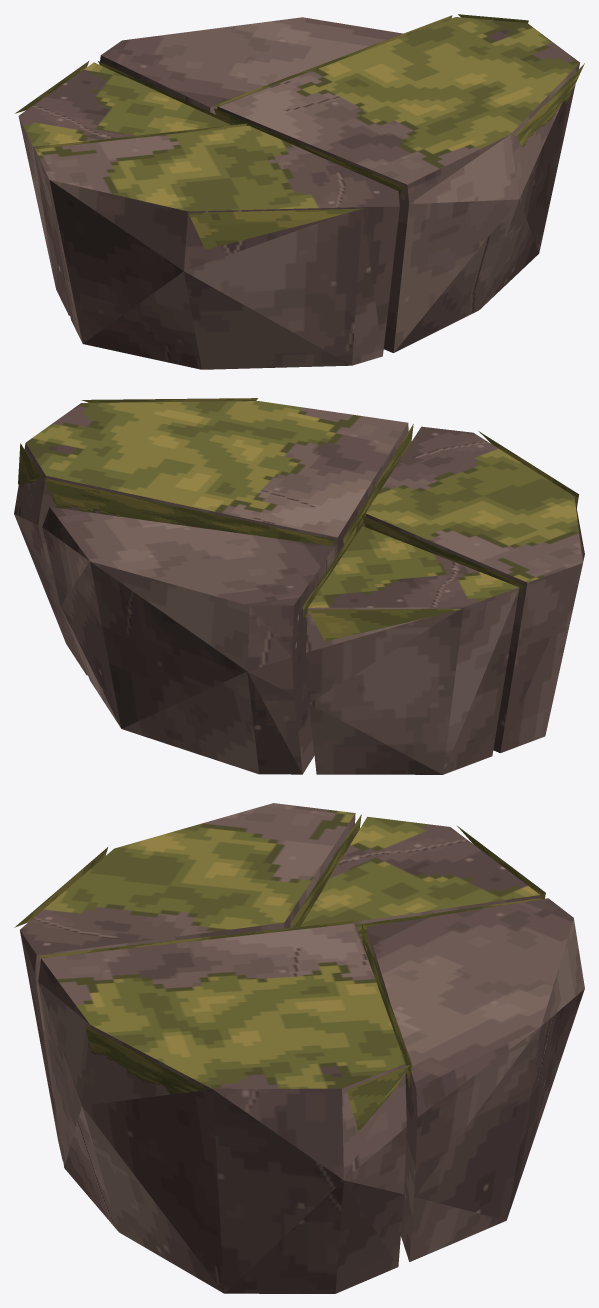
File: SM_RK04_BoulderFlat.fbx
3 views of the same model, one above another, from view 1: azimuth 30°, elevation 25°; view 2: azimuth 150°, elevation 25°; view 3: azimuth 270°, elevation 25° (orthographic). The views are drawn at different scales.
Visible parts, largest first — view 1: RK04_Rock, RK04_RockTop, RK04_Moss; view 2: RK04_Rock, RK04_RockTop, RK04_Moss; view 3: RK04_Rock, RK04_RockTop, RK04_Moss.
Boxes of the visible parts, x1=… form: RK04_Rock: x1=19, y1=17, x2=579, y2=369; RK04_RockTop: x1=18, y1=17, x2=579, y2=211; RK04_Moss: x1=14, y1=14, x2=584, y2=249; RK04_Rock: x1=14, y1=423, x2=584, y2=774; RK04_RockTop: x1=26, y1=401, x2=582, y2=607; RK04_Moss: x1=18, y1=398, x2=578, y2=641; RK04_Rock: x1=20, y1=813, x2=584, y2=1293; RK04_RockTop: x1=20, y1=803, x2=539, y2=1089; RK04_Moss: x1=14, y1=814, x2=545, y2=1131.
Size of the model in its own units: 1.8 by 0.6219 by 1.41.
